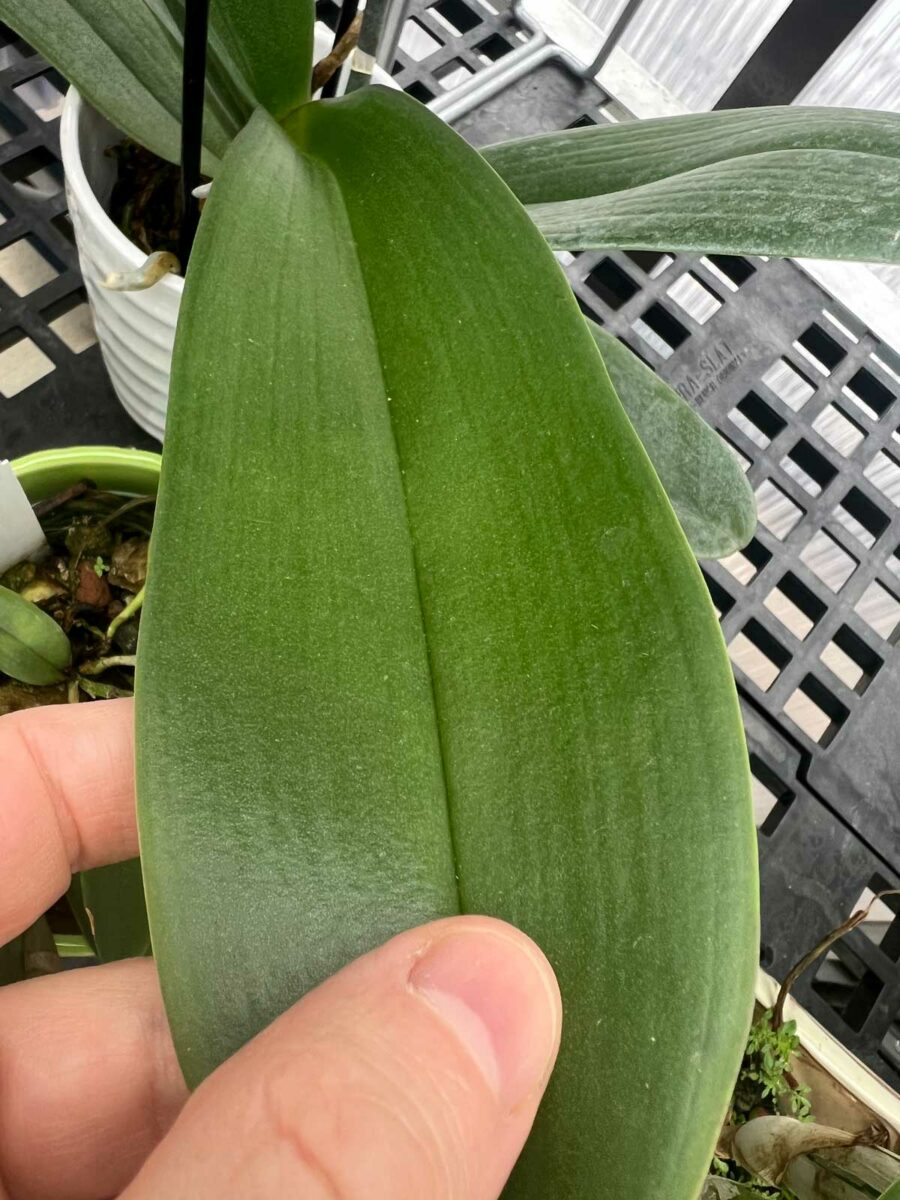orchid leaf: (117, 93, 751, 1200)
